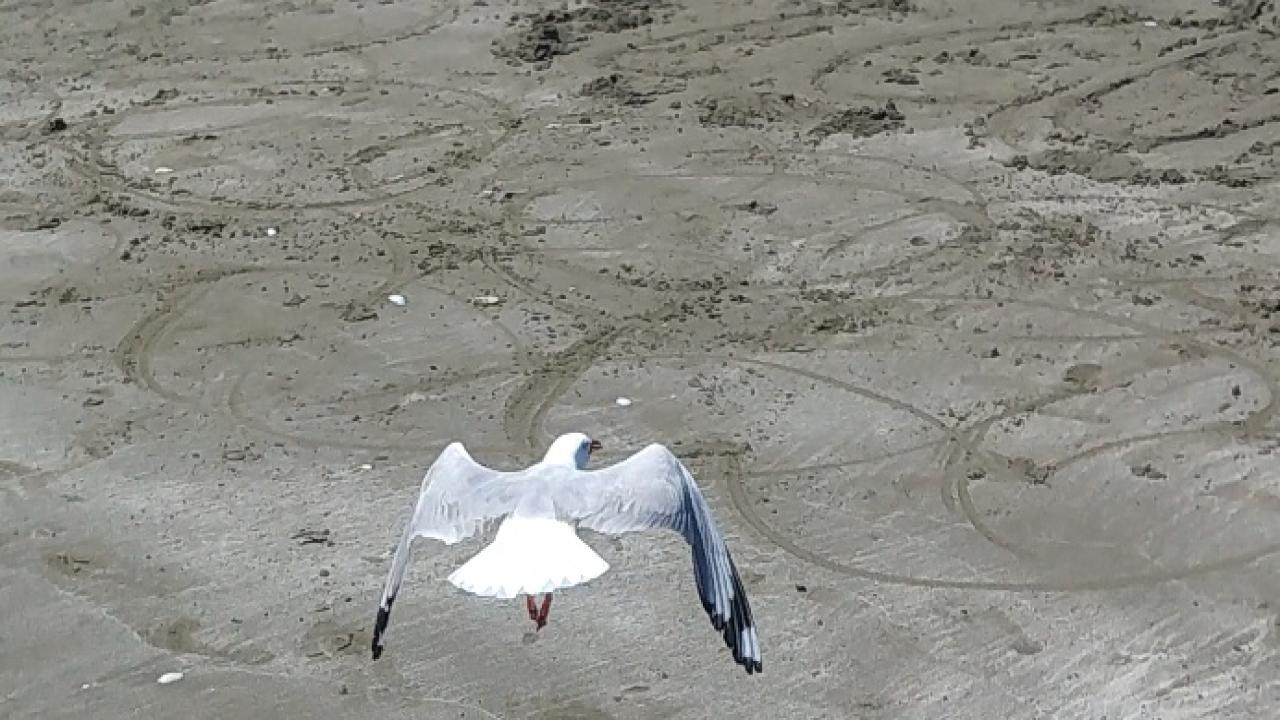Bird: (361, 418, 772, 680)
